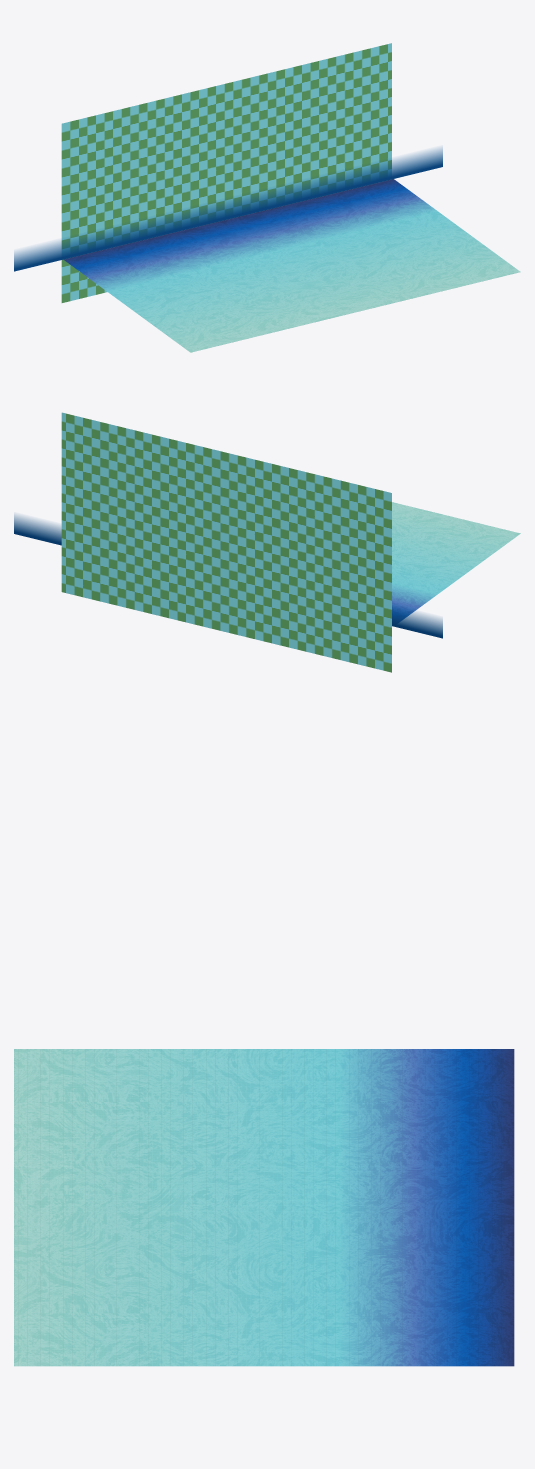
File: StageTraining.glb
3 views of the same model, one above another, from view 1: azimuth 30°, elevation 25°; view 2: azimuth 150°, elevation 25°; view 3: azimuth 270°, elevation 25° (orthographic). The views are drawn at different scales.
Visible parts, largest first — view 1: UV BG, UV Ground, UV Aura; view 2: UV BG, UV Ground, UV Aura; view 3: UV Ground.
Part boxes in pixels (left/top/right/bottom): UV BG: left=61, top=43, right=391, bottom=302; UV Ground: left=64, top=179, right=520, bottom=352; UV Aura: left=14, top=147, right=442, bottom=271; UV BG: left=61, top=412, right=391, bottom=672; UV Ground: left=392, top=502, right=520, bottom=621; UV Aura: left=14, top=514, right=442, bottom=638; UV Ground: left=14, top=1049, right=514, bottom=1366.
Size of the model in its own units: 400 by 176 by 208.
3 materials, 3 textured.
